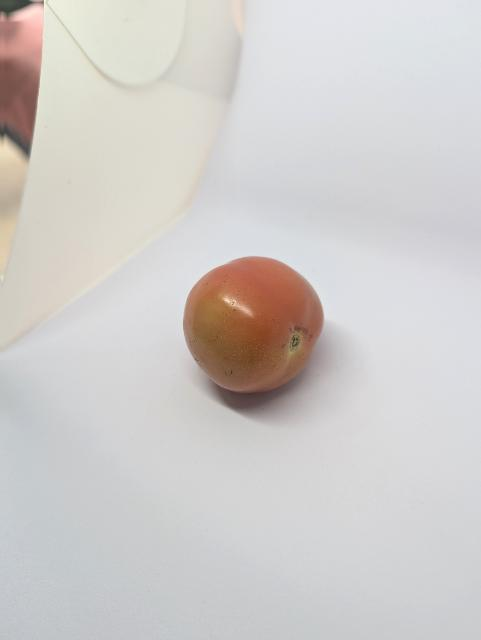turning: (176, 244, 335, 402)
